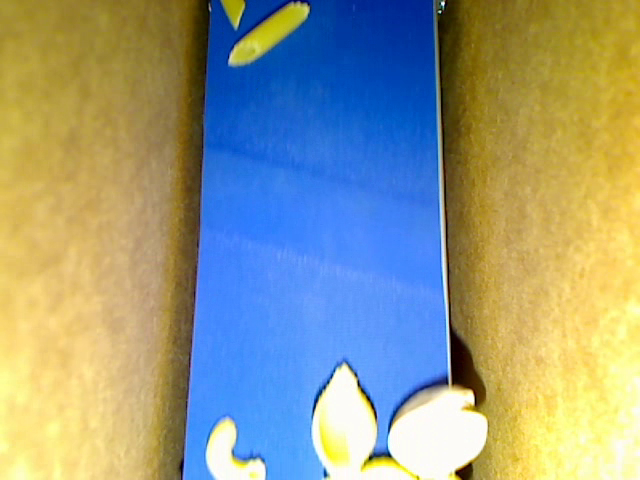elbow: (205, 415, 267, 479)
penne: (227, 1, 309, 68), (220, 1, 246, 32)
shell: (312, 362, 378, 479)
